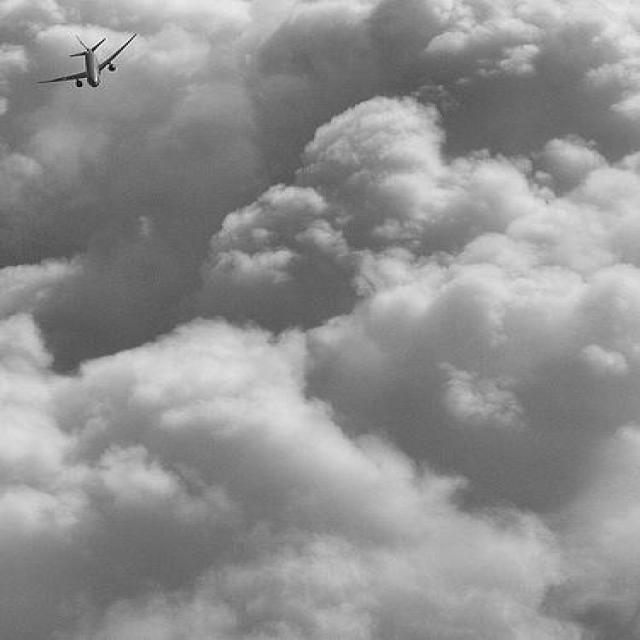aeroplane: (33, 32, 138, 91)
